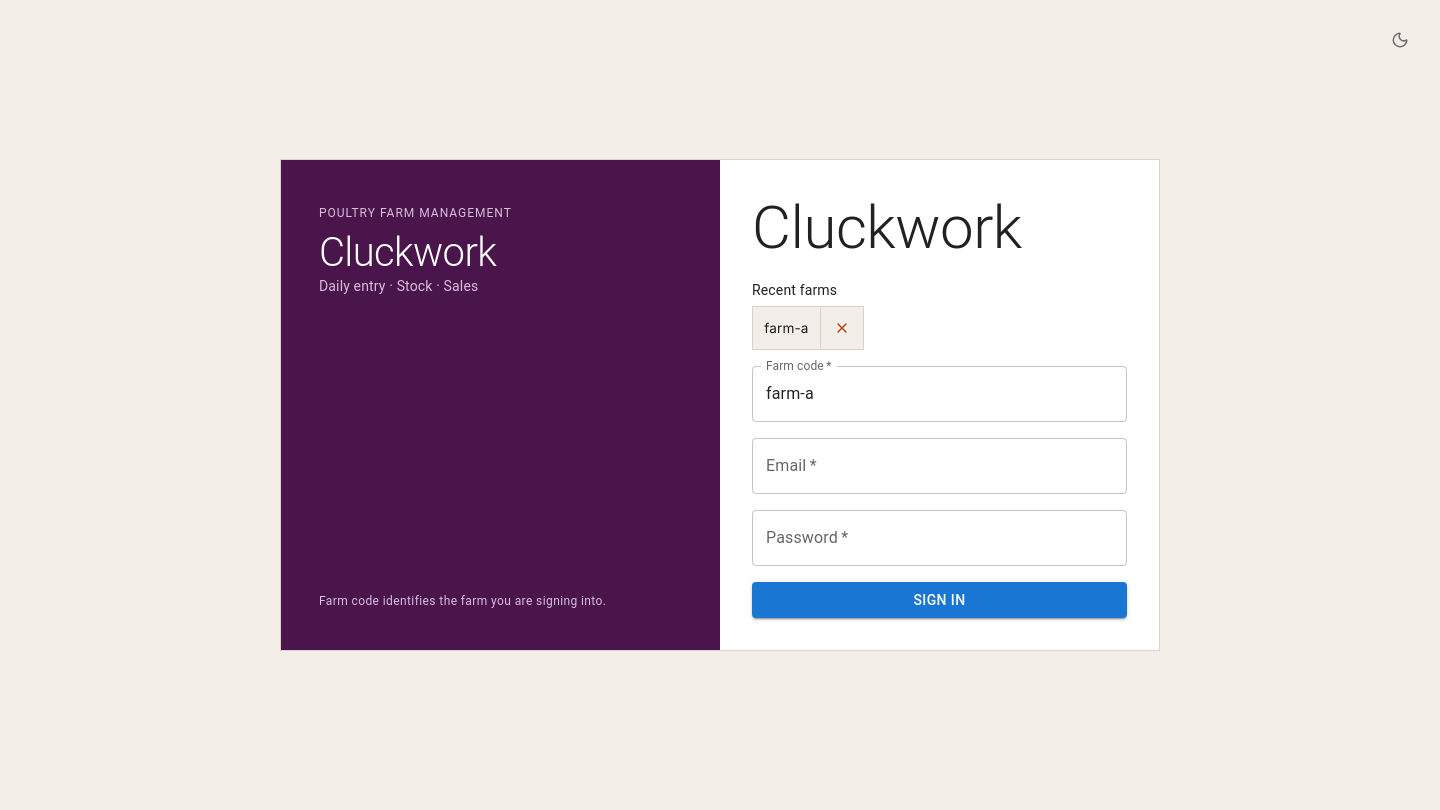
Test: Login — forgetting a remembered farm › does not remove a remembered farm until its confirmation is accepted
Expected: the button "Sign in" is shown, [752,582,1127,618]
Click the button named "Forget farm-a" at (842, 328), box [820,306,864,350]
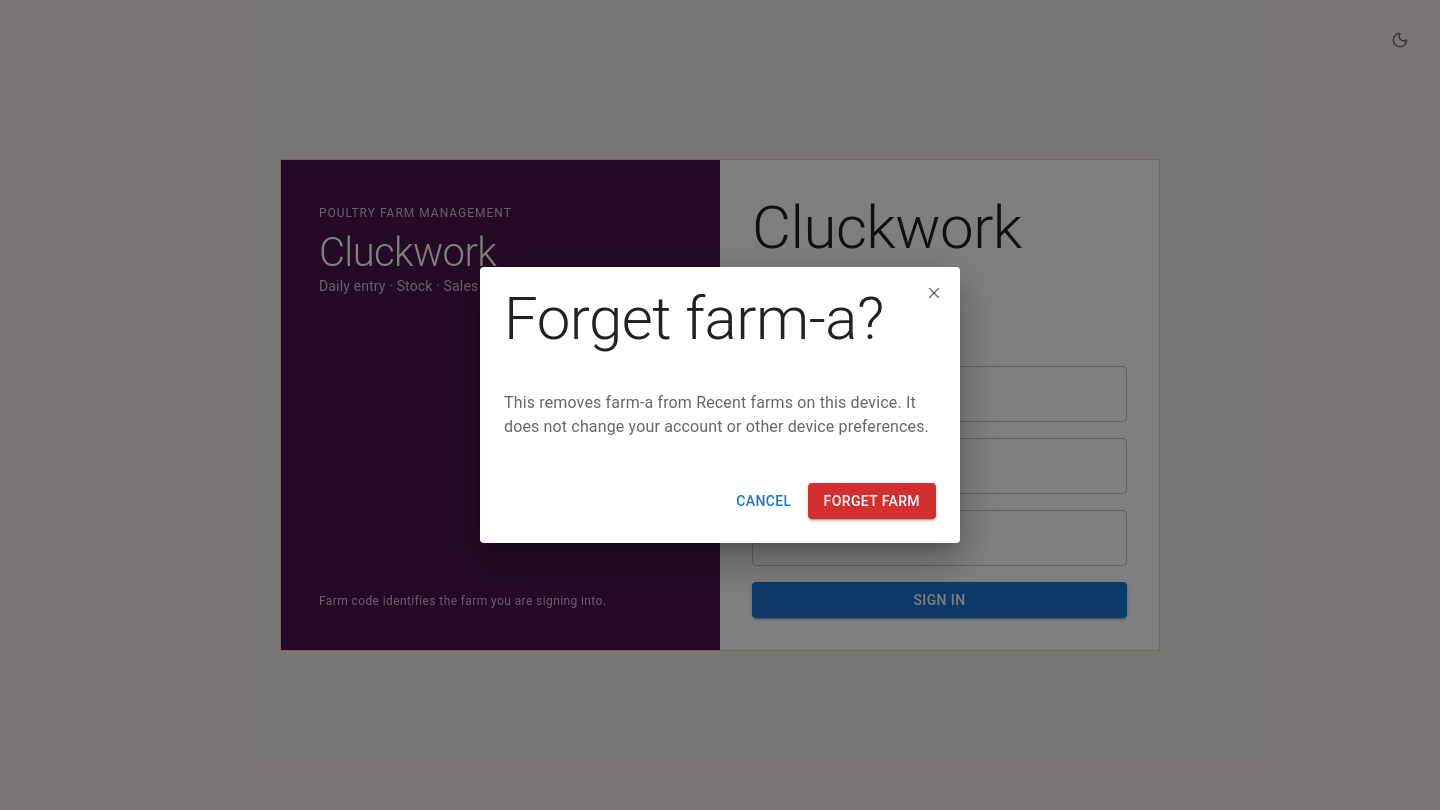
Expected: the element named "Recent farms" is shown, [752,306,864,350]
Expected: the field labelled "Farm code *" holds "farm-a", [752,366,1127,422]
Click the button "Cancel" at (764, 501), box [728,483,800,519]
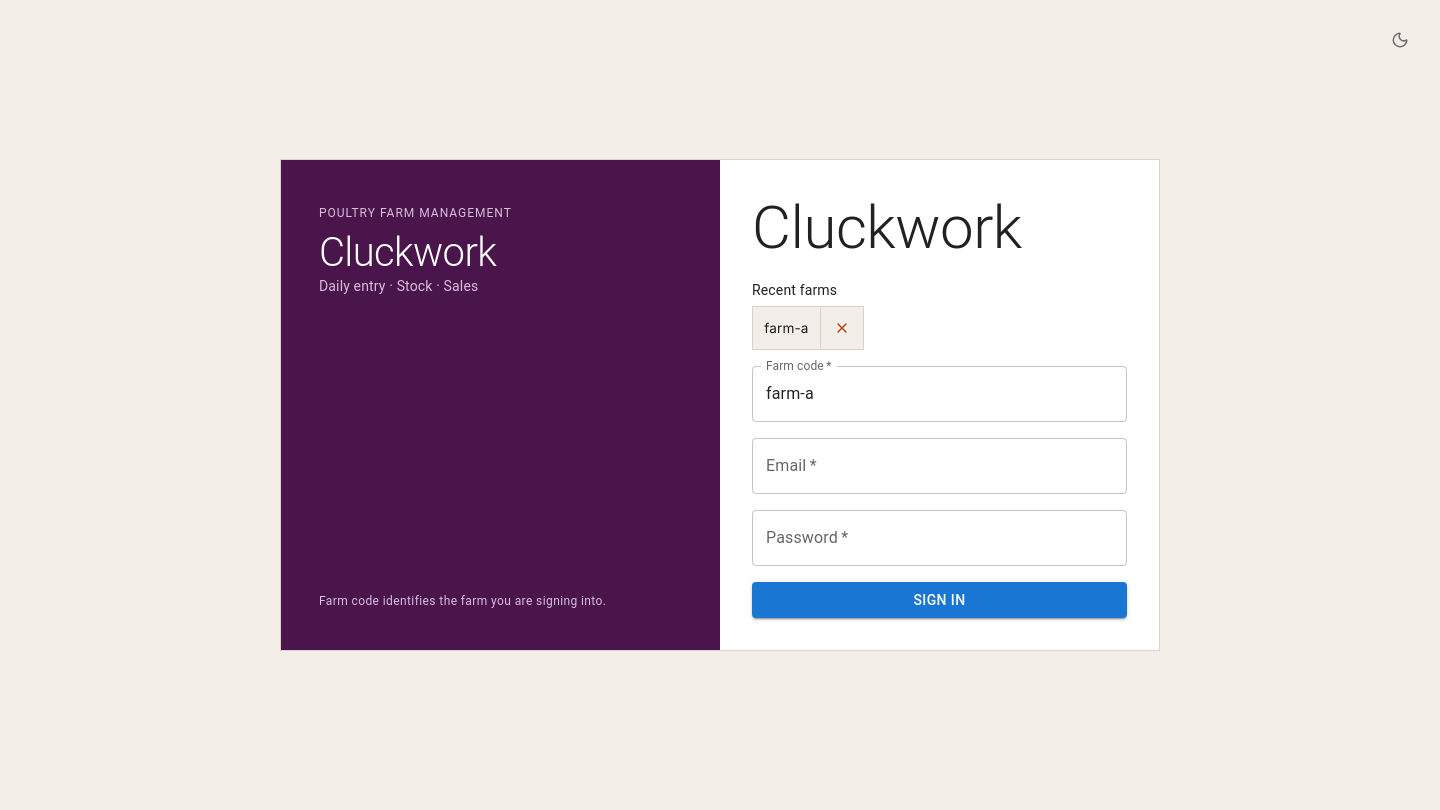
Expected: the element named "Recent farms" is shown, [752,306,864,350]
Now the dialog is gone
